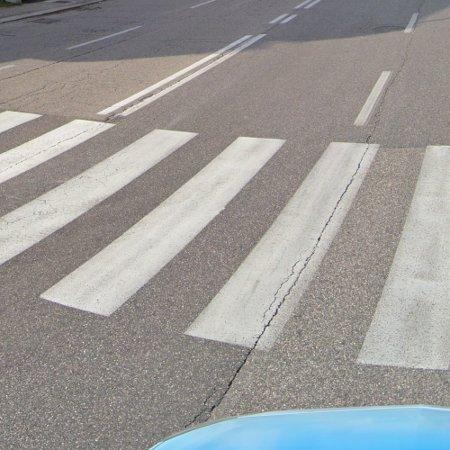crosswalks: (0, 108, 450, 370)
